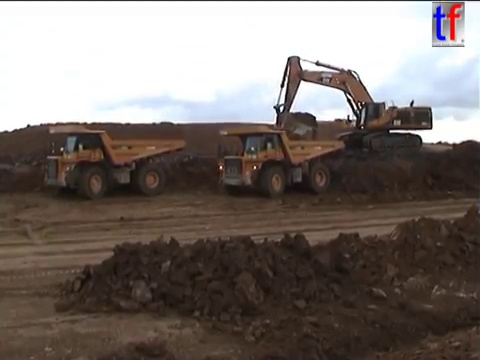excavator: (271, 53, 434, 156)
truck: (42, 123, 187, 200), (214, 123, 346, 197)
